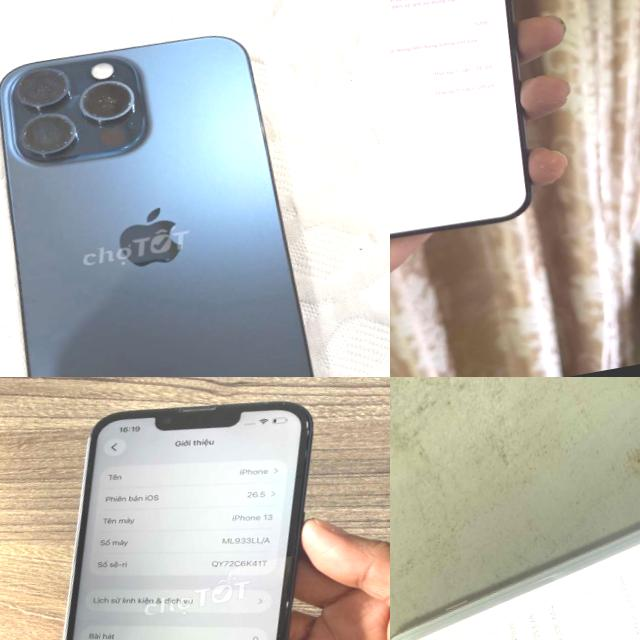gen_12_13: (0, 377, 371, 640)
gen_15: (0, 11, 330, 377), (390, 0, 570, 269)
gen_7_8: (390, 456, 640, 640)
scratch: (0, 48, 149, 170)
